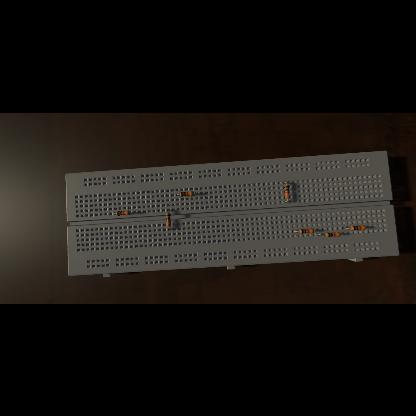breadboard: (65, 149, 399, 276)
resistor: (350, 224, 366, 230), (298, 228, 314, 234), (284, 184, 290, 198), (117, 210, 131, 216), (166, 212, 172, 226), (180, 191, 194, 196), (325, 232, 341, 236)
wire: (318, 233, 326, 235), (293, 230, 299, 232), (194, 192, 198, 194), (286, 198, 288, 202), (343, 228, 351, 229), (168, 209, 170, 212), (284, 182, 286, 184), (178, 193, 180, 195), (169, 227, 171, 229), (340, 232, 342, 234), (314, 230, 316, 231)
